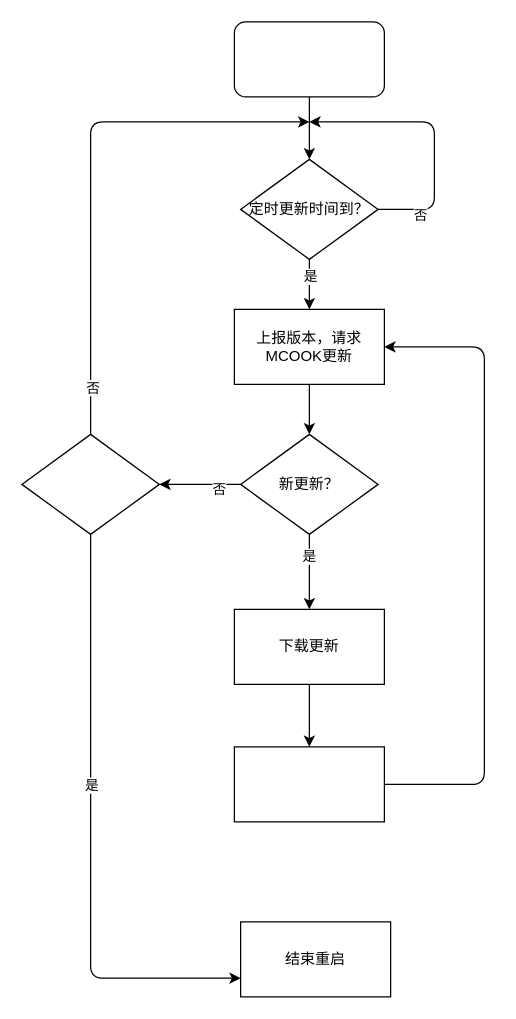
This 516x1019 diagram has some shape labels left out. The box of each missing label's shape, as (x1, y1, x2, y2) in pixels:
初始化: (233, 21, 384, 97)
安装更新: (233, 746, 384, 822)
更新过？: (21, 433, 159, 534)
